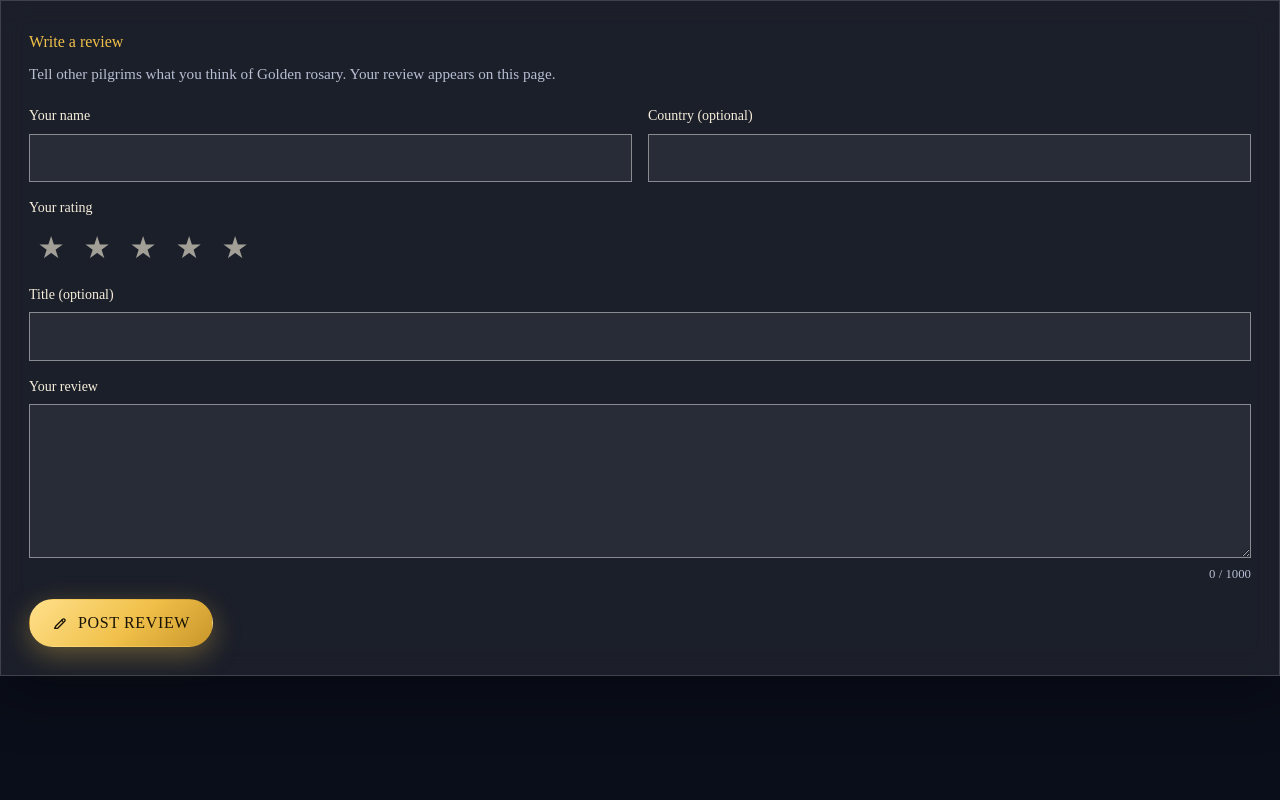
Test case: ProductReviewForm › posts the review with an empty honeypot and shows it at once
Step 1. Type " Maria " into the field labelled "Your name" → (330, 158), box [29,134,632,182]
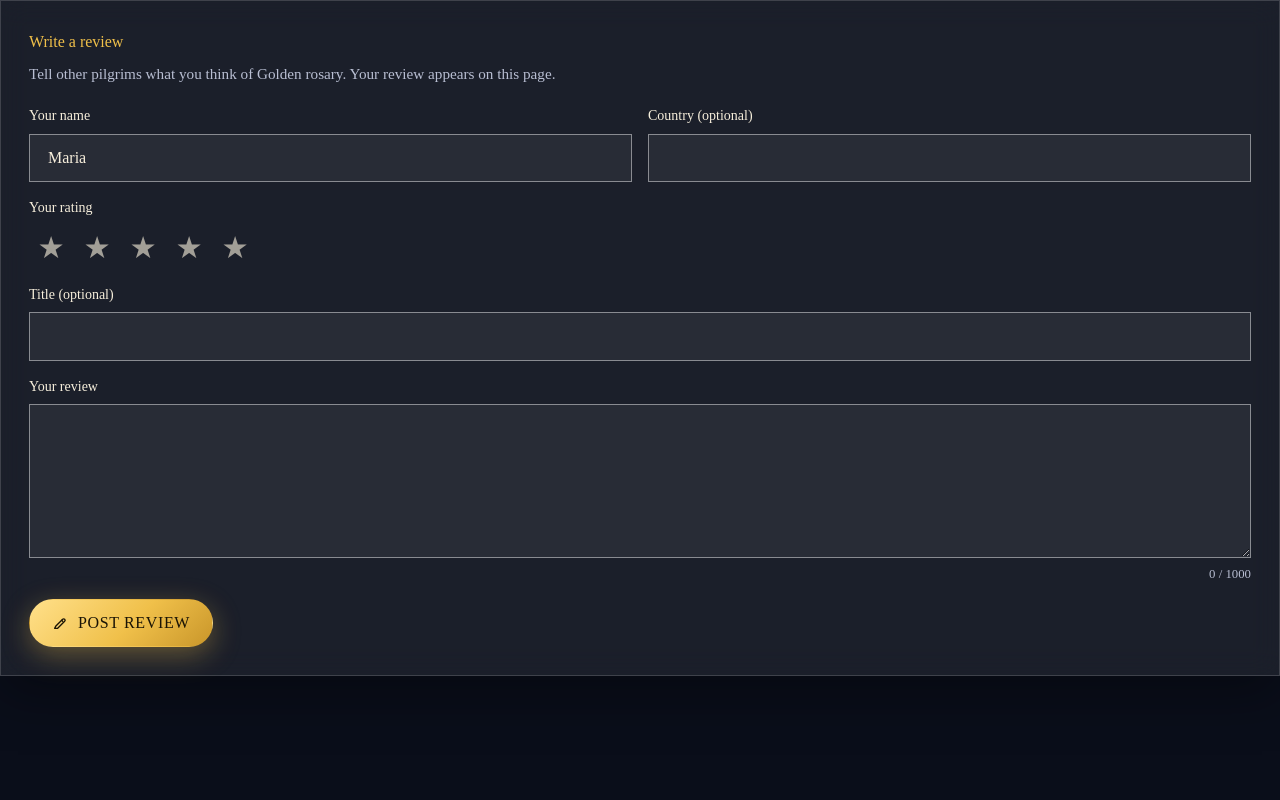
Step 2. Click the radio button named "4 stars" → (189, 247), box [167,225,211,269]
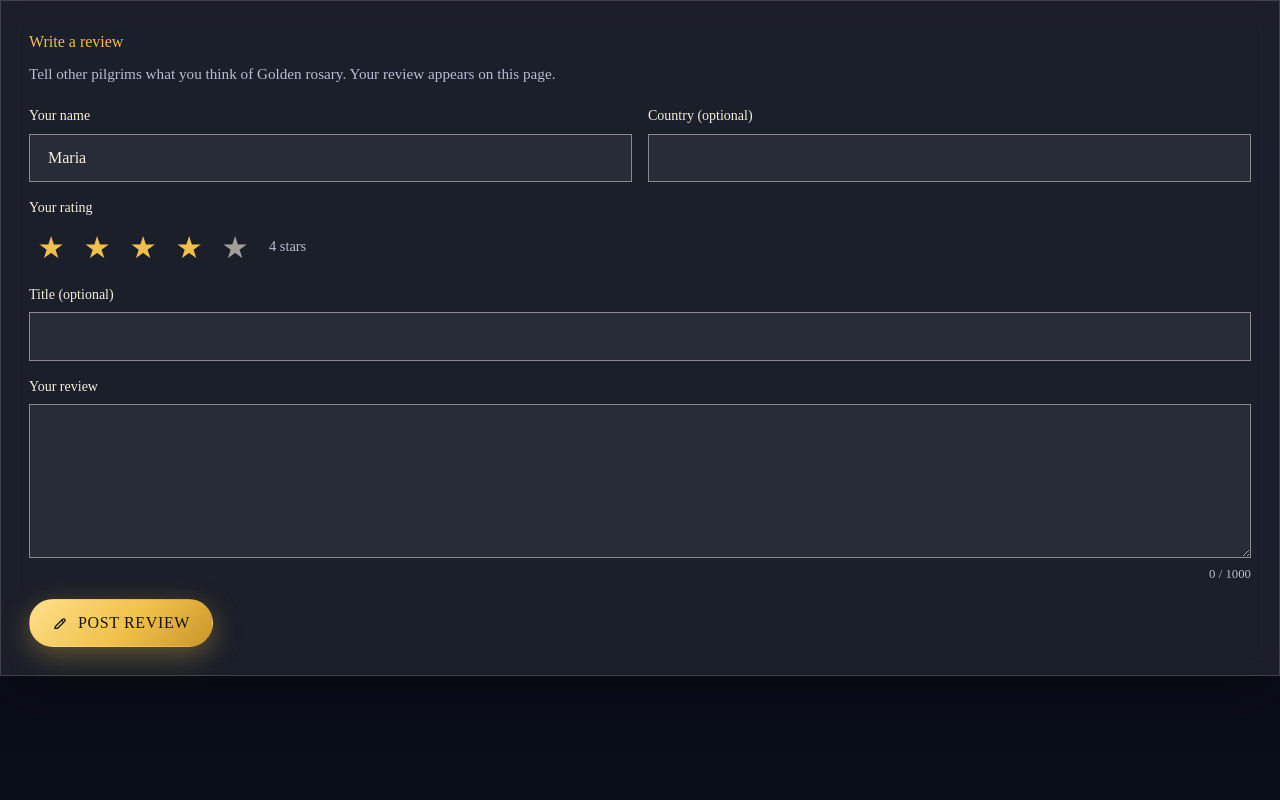
Step 3. Type "Beautiful rosary" into the text box labelled "Your review" → (640, 481), box [29,404,1251,558]
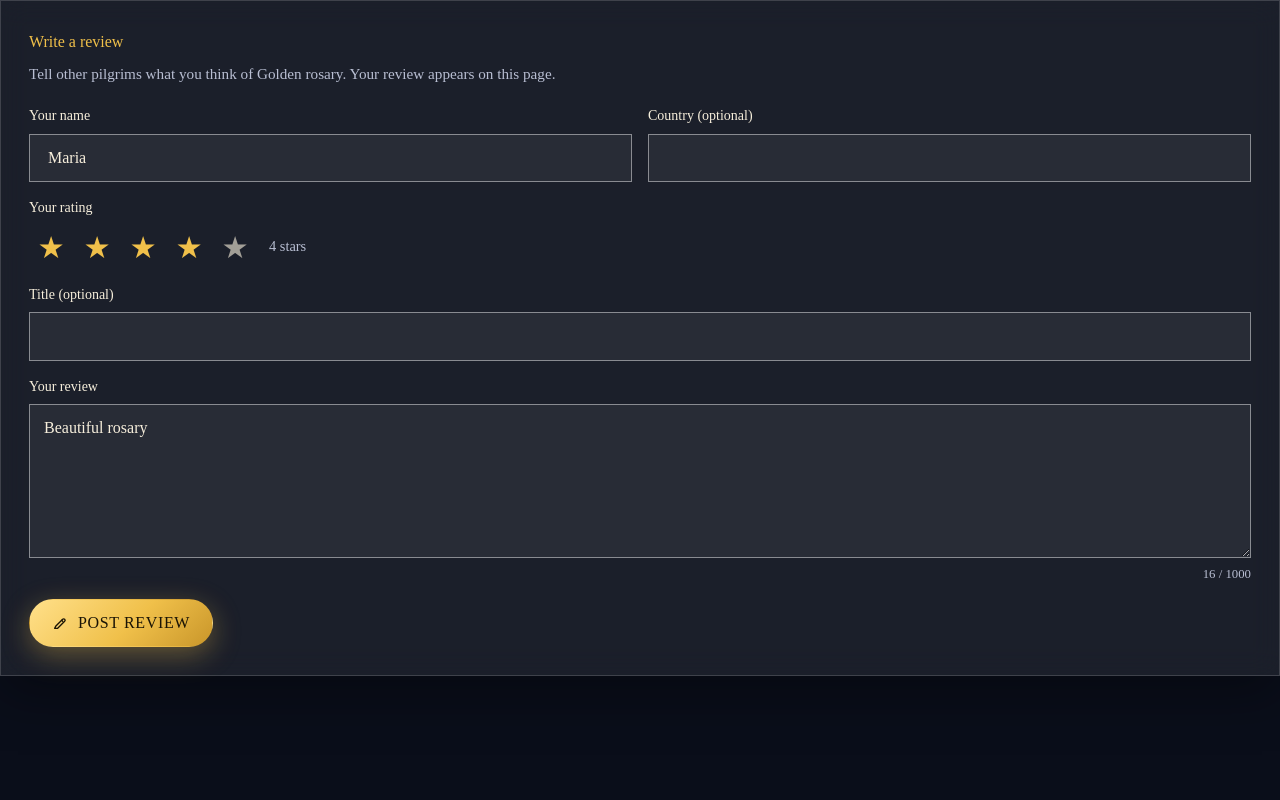
Step 4. Click the button "Post review" → (121, 623), box [29,599,213,647]
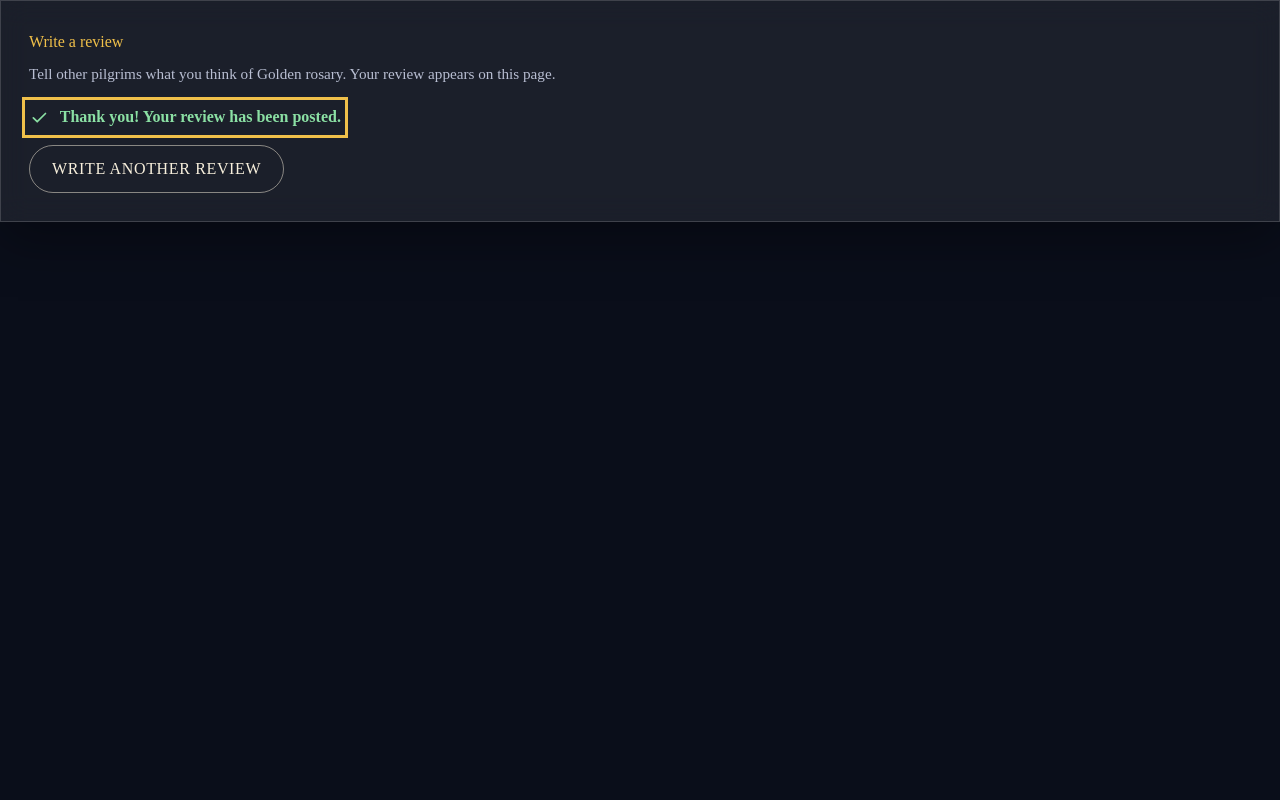
Check: the text "Thank you! Your review has been posted." is shown, box [60,104,341,131]
